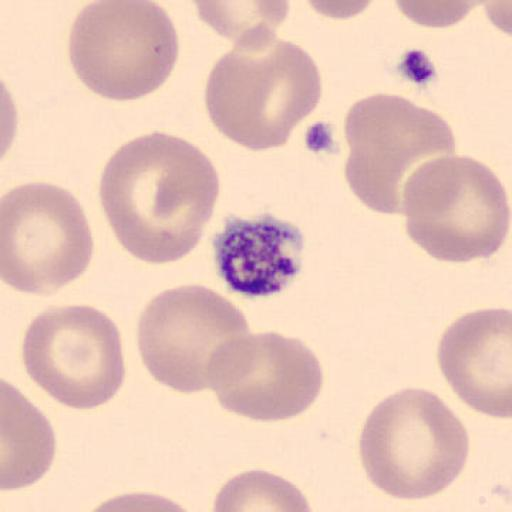Platelet: (210, 209, 308, 300)
RBC: (98, 130, 221, 266), (342, 91, 457, 215), (202, 37, 324, 152), (356, 384, 472, 503), (135, 282, 252, 396), (400, 154, 512, 265), (66, 0, 181, 102), (20, 303, 126, 411), (204, 329, 325, 423), (2, 179, 95, 298), (436, 306, 512, 419), (2, 380, 58, 492), (210, 467, 316, 512), (190, 0, 291, 44), (78, 489, 205, 512), (392, 0, 486, 31), (1, 75, 19, 162), (304, 0, 378, 21), (479, 0, 512, 38)
